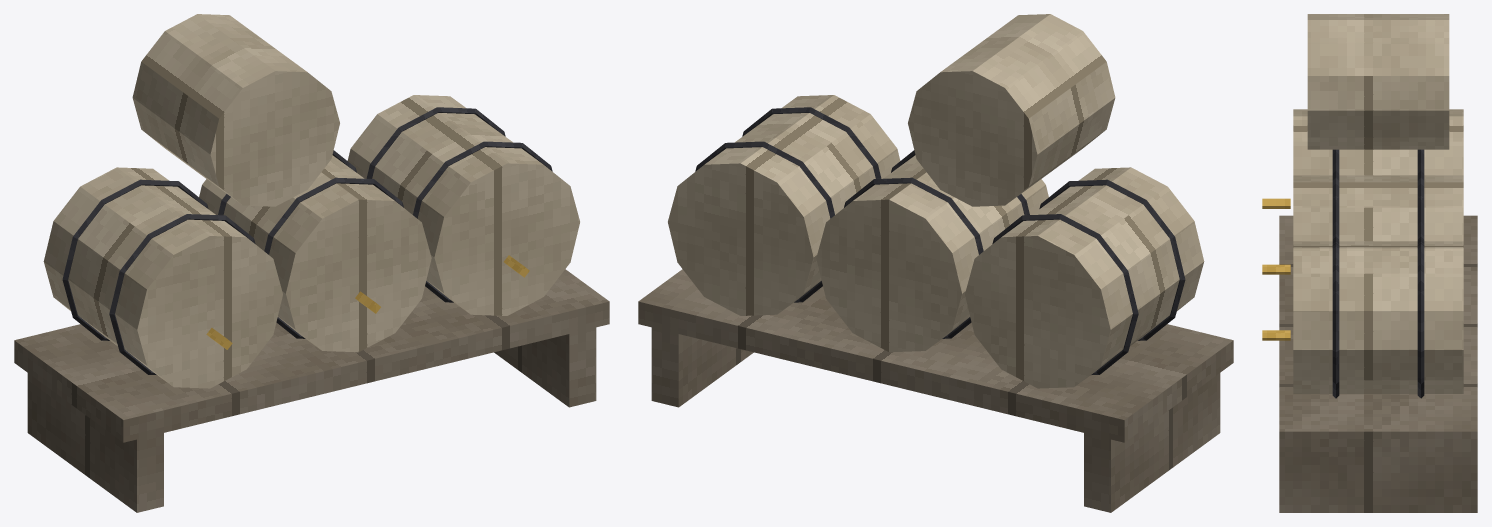
Rendered from keg_rack.glb.
3 renders of one model, left to right at view 1: azimuth 30°, elevation 25°; view 2: azimuth 150°, elevation 25°; view 3: azimuth 270°, elevation 25°, orthographic. The views are drawn at different scales.
Parts seen in each view (by area): view 1: body; view 2: body; view 3: body.
Boxes of the visible parts, x1=… form: body: x1=14, y1=14, x2=609, y2=512; body: x1=638, y1=14, x2=1233, y2=512; body: x1=1262, y1=14, x2=1477, y2=512.
Bounding box in the file's own units: 1.8 × 1.39 × 0.76.
4 materials, 4 textured.
